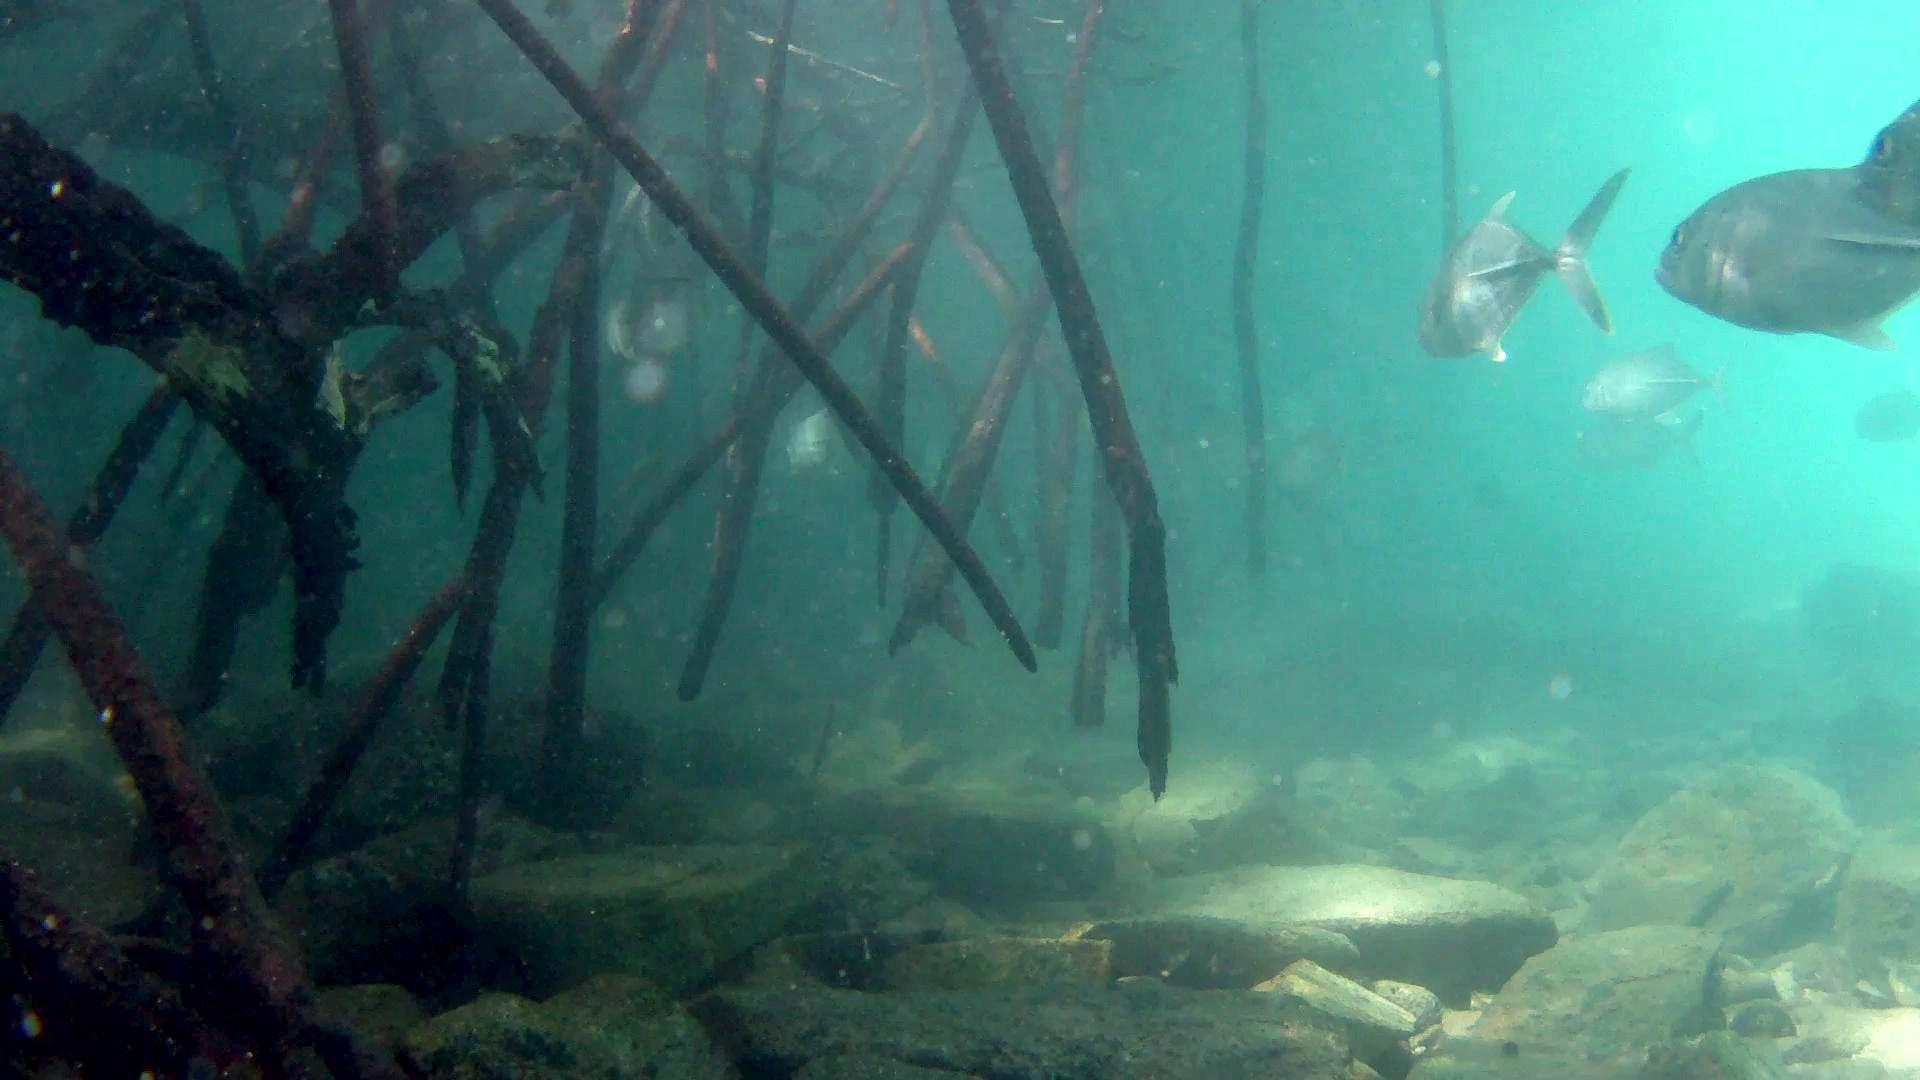caranx: (1644, 150, 1920, 364), (1408, 162, 1636, 365), (1849, 78, 1920, 240)
